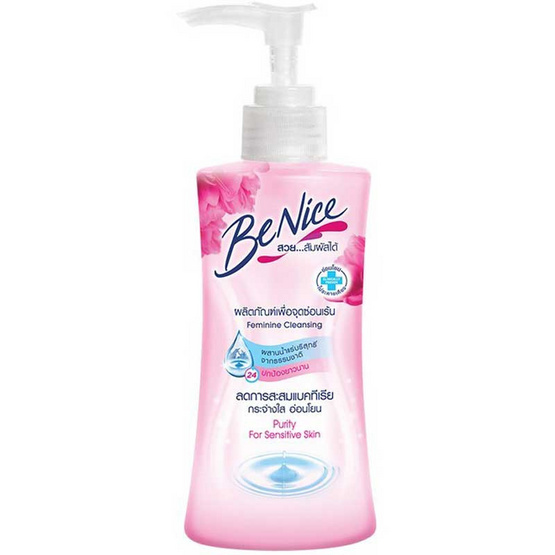Cleaning_solution: (173, 1, 390, 554)
